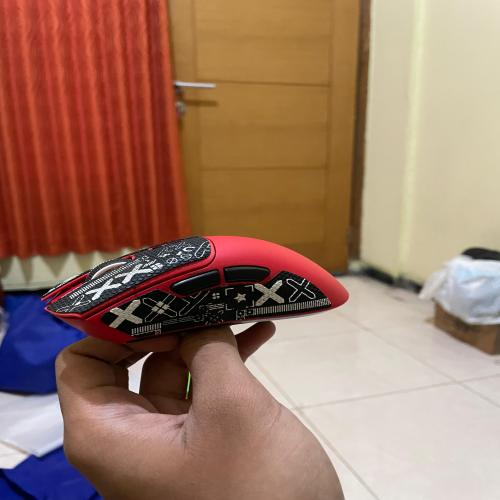Mouse: (35, 218, 366, 351)
